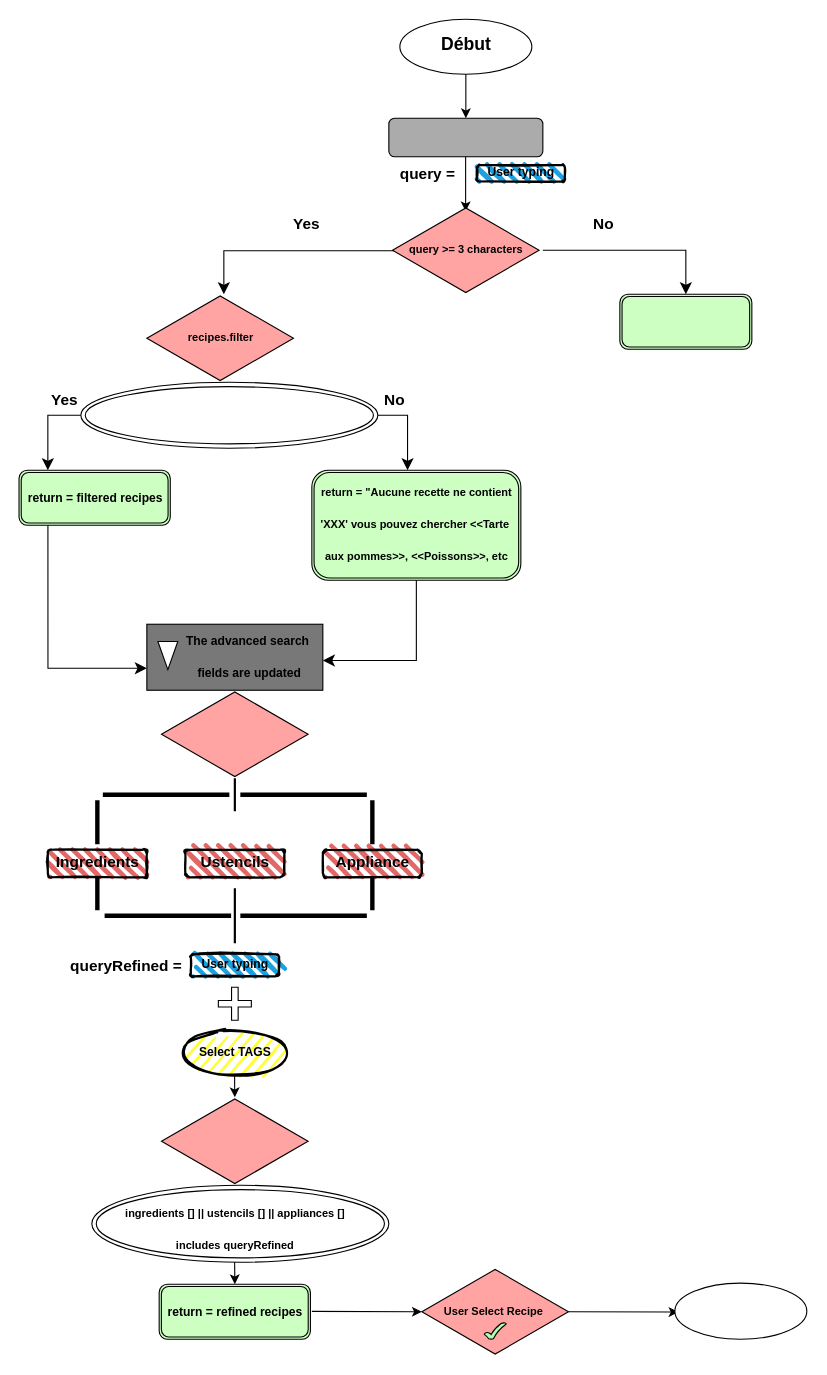
Some shapes in this 827 by 1375 pixel diagram are drawn without their labels. Each missing label, with the centre of its shape:
"filteredRecipes.filter" goes at point (234, 1140).
"Fin" goes at point (740, 1310).
"Main Search Input" goes at point (465, 137).
"name || ingredient || description => include userQuery" goes at point (229, 414).
"return = recipes don't move" goes at point (685, 321).
"User choice select" goes at point (234, 733).
